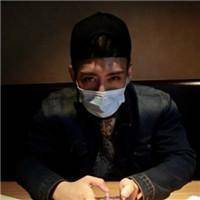face_mask: (75, 54, 127, 118)
